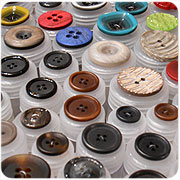Bouton: (115, 64, 164, 96), (62, 93, 104, 122), (133, 130, 172, 161), (35, 130, 69, 156), (36, 9, 73, 30), (24, 76, 57, 99), (42, 49, 72, 69), (114, 104, 142, 124)
